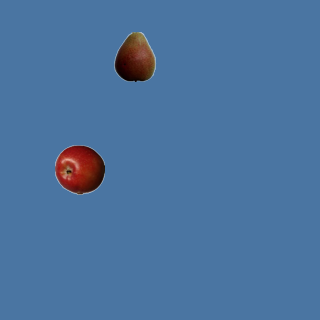Apple Braeburn: (54, 144, 104, 194)
Pear Forelle: (109, 31, 159, 81)
